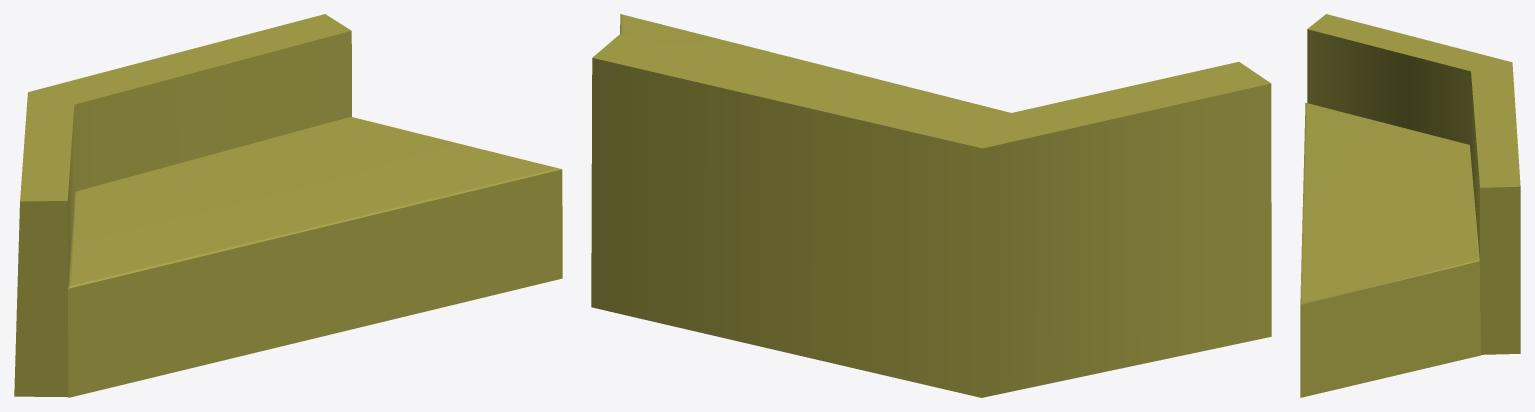
Rendered from canap_tri3_collider (1).fbx.
3 views of the same model, side by side, from view 1: azimuth 30°, elevation 25°; view 2: azimuth 150°, elevation 25°; view 3: azimuth 270°, elevation 25° (orthographic). The views are drawn at different scales.
Visible parts, largest first — view 1: canap_tri3_collider; view 2: canap_tri3_collider; view 3: canap_tri3_collider.
Part boxes in pixels (x1=…): canap_tri3_collider: x1=14, y1=14, x2=562, y2=397; canap_tri3_collider: x1=591, y1=14, x2=1271, y2=397; canap_tri3_collider: x1=1300, y1=14, x2=1520, y2=397.
Size of the model in its own units: 283 by 101 by 120.
